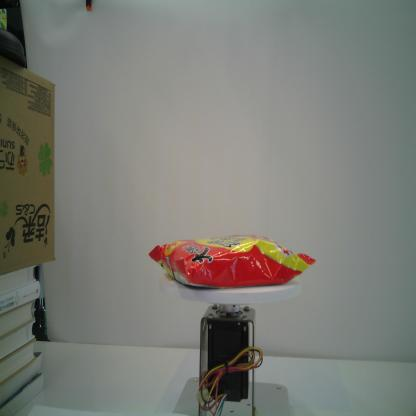Instant Noodles: (146, 232, 318, 292)
